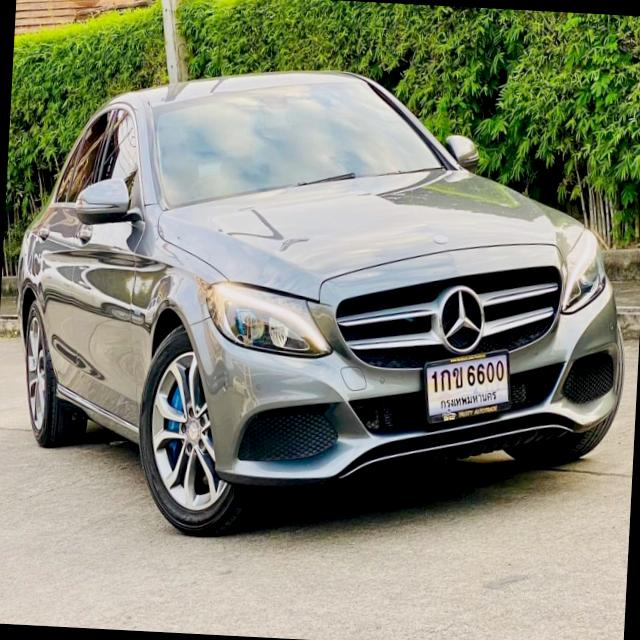license_plate: (416, 338, 514, 436)
